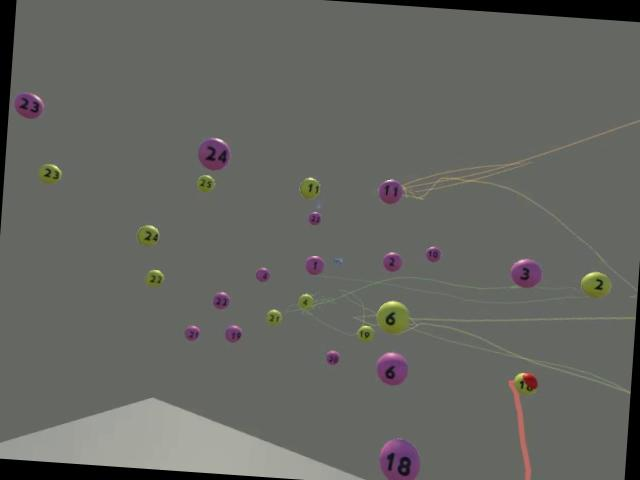ball_01_pink: (304, 254, 324, 274)
ball_02_pink: (381, 250, 401, 271)
ball_02_yellow: (578, 270, 612, 298)
ball_03_pink: (508, 256, 542, 288)
ball_04_pink: (254, 266, 269, 282)
ball_04_yellow: (296, 292, 313, 309)
ball_06_pink: (374, 350, 408, 386)
ball_06_yellow: (374, 300, 410, 334)
ball_10_pink: (424, 244, 441, 262)
ball_11_pink: (377, 178, 403, 205)
ball_11_yellow: (298, 175, 319, 198)
ball_18_pink: (377, 436, 421, 480)
ball_19_pink: (224, 324, 242, 343)
ball_19_yellow: (356, 324, 373, 343)
ball_20_pink: (325, 350, 340, 365)
ball_21_pink: (183, 324, 200, 342)
ball_21_yellow: (264, 308, 281, 326)
ball_22_pink: (211, 290, 229, 308)
ball_22_yellow: (144, 268, 164, 286)
ball_23_pink: (12, 90, 45, 118)
ball_23_yellow: (36, 162, 62, 183)
ball_24_pink: (196, 136, 231, 170)
ball_24_yellow: (136, 224, 158, 246)
ball_25_pink: (307, 210, 321, 225)
ball_25_yellow: (195, 174, 214, 192)
ball_unknown: (512, 371, 538, 396), (523, 372, 537, 386)
